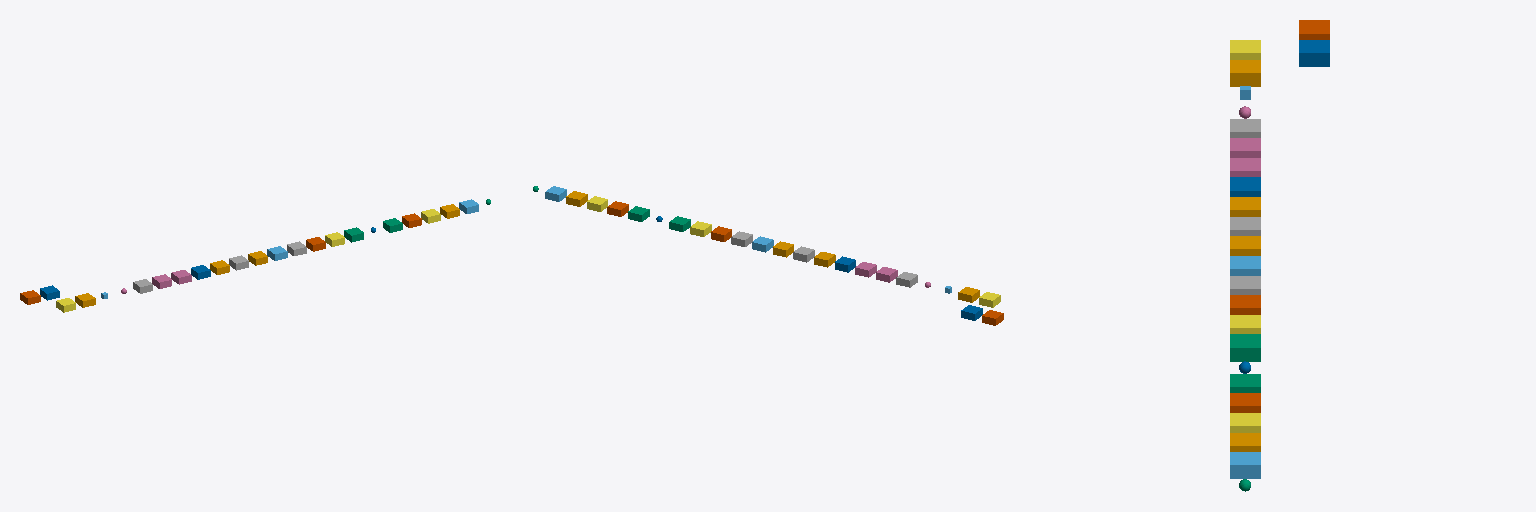
robot.urdf — lift_off_hinge_assembly:
<?xml version="1.0" ?>
<robot name="lift_off_hinge_assembly">
  <link name="base_wall">
    <visual>
      <geometry>
        <box size="0.04 0.04 0.02"/>
      </geometry>
    </visual>
  </link>
  <link name="base_wall_exterior_guide_surface">
    <visual>
      <geometry>
        <box size="0.04 0.04 0.02"/>
      </geometry>
    </visual>
  </link>
  <link name="bight_wall">
    <visual>
      <geometry>
        <box size="0.04 0.04 0.02"/>
      </geometry>
    </visual>
  </link>
  <link name="body_half_sub_assembly">
    <visual>
      <geometry>
        <box size="0.04 0.04 0.02"/>
      </geometry>
    </visual>
  </link>
  <link name="door_half_member">
    <visual>
      <geometry>
        <box size="0.04 0.04 0.02"/>
      </geometry>
    </visual>
  </link>
  <link name="first_sidewall">
    <visual>
      <geometry>
        <box size="0.04 0.04 0.02"/>
      </geometry>
    </visual>
  </link>
  <link name="hinge_axis">
    <visual>
      <geometry>
        <sphere radius="0.008"/>
      </geometry>
    </visual>
  </link>
  <link name="hinge_body_half_assembly">
    <visual>
      <geometry>
        <box size="0.04 0.04 0.02"/>
      </geometry>
    </visual>
  </link>
  <link name="leaf_flange">
    <visual>
      <geometry>
        <box size="0.04 0.04 0.02"/>
      </geometry>
    </visual>
  </link>
  <link name="leaf_flange_pintle_pin_hole">
    <visual>
      <geometry>
        <box size="0.04 0.04 0.02"/>
      </geometry>
    </visual>
  </link>
  <link name="leg_guide_edge_surface">
    <visual>
      <geometry>
        <box size="0.04 0.04 0.02"/>
      </geometry>
    </visual>
  </link>
  <link name="link_member_pintle_pin_holes">
    <visual>
      <geometry>
        <box size="0.04 0.04 0.02"/>
      </geometry>
    </visual>
  </link>
  <link name="lower_extension">
    <visual>
      <geometry>
        <box size="0.04 0.04 0.02"/>
      </geometry>
    </visual>
  </link>
  <link name="lower_leg">
    <visual>
      <geometry>
        <box size="0.04 0.04 0.02"/>
      </geometry>
    </visual>
  </link>
  <link name="main_member">
    <visual>
      <geometry>
        <box size="0.04 0.04 0.02"/>
      </geometry>
    </visual>
  </link>
  <link name="main_member_pintle_pin_hole">
    <visual>
      <geometry>
        <box size="0.04 0.04 0.02"/>
      </geometry>
    </visual>
  </link>
  <link name="mounting_wall">
    <visual>
      <geometry>
        <box size="0.04 0.04 0.02"/>
      </geometry>
    </visual>
  </link>
  <link name="pintle_pin">
    <visual>
      <geometry>
        <box size="0.014 0.014 0.014"/>
      </geometry>
    </visual>
  </link>
  <link name="pintle_pin_stop_means">
    <visual>
      <geometry>
        <sphere radius="0.008"/>
      </geometry>
    </visual>
  </link>
  <link name="second_sidewall">
    <visual>
      <geometry>
        <box size="0.04 0.04 0.02"/>
      </geometry>
    </visual>
  </link>
  <link name="stop_means">
    <visual>
      <geometry>
        <sphere radius="0.008"/>
      </geometry>
    </visual>
  </link>
  <link name="u_shaped_link_member">
    <visual>
      <geometry>
        <box size="0.04 0.04 0.02"/>
      </geometry>
    </visual>
  </link>
  <link name="upper_extension">
    <visual>
      <geometry>
        <box size="0.04 0.04 0.02"/>
      </geometry>
    </visual>
  </link>
  <link name="upper_leg">
    <visual>
      <geometry>
        <box size="0.04 0.04 0.02"/>
      </geometry>
    </visual>
  </link>
  <link name="vehicle_body">
    <visual>
      <geometry>
        <box size="0.04 0.04 0.02"/>
      </geometry>
    </visual>
  </link>
  <joint name="_attach_door_half_member_to_body_half_sub_assembly" type="fixed">
    <parent link="door_half_member"/>
    <child link="body_half_sub_assembly"/>
    <origin xyz="0.0000 -0.0900 0.0000" rpy="0 0 0"/>
  </joint>
  <joint name="_attach_u_shaped_link_member_to_base_wall" type="fixed">
    <parent link="u_shaped_link_member"/>
    <child link="base_wall"/>
    <origin xyz="0.6600 -0.0900 0.0000" rpy="0 0 0"/>
  </joint>
  <joint name="_attach_u_shaped_link_member_to_base_wall_exterior_guide_surface" type="fixed">
    <parent link="u_shaped_link_member"/>
    <child link="base_wall_exterior_guide_surface"/>
    <origin xyz="0.7200 -0.0900 0.0000" rpy="0 0 0"/>
  </joint>
  <joint name="_attach_u_shaped_link_member_to_bight_wall" type="fixed">
    <parent link="u_shaped_link_member"/>
    <child link="bight_wall"/>
    <origin xyz="1.0800 -0.0900 0.0000" rpy="0 0 0"/>
  </joint>
  <joint name="_attach_u_shaped_link_member_to_door_half_member" type="fixed">
    <parent link="u_shaped_link_member"/>
    <child link="door_half_member"/>
    <origin xyz="0.0600 0.0000 0.0000" rpy="0 0 0"/>
  </joint>
  <joint name="_attach_u_shaped_link_member_to_first_sidewall" type="fixed">
    <parent link="u_shaped_link_member"/>
    <child link="first_sidewall"/>
    <origin xyz="1.1400 -0.0900 0.0000" rpy="0 0 0"/>
  </joint>
  <joint name="_attach_u_shaped_link_member_to_hinge_axis" type="fixed">
    <parent link="u_shaped_link_member"/>
    <child link="hinge_axis"/>
    <origin xyz="0.2400 -0.0900 0.0000" rpy="0 0 0"/>
  </joint>
  <joint name="_attach_u_shaped_link_member_to_hinge_body_half_assembly" type="fixed">
    <parent link="u_shaped_link_member"/>
    <child link="hinge_body_half_assembly"/>
    <origin xyz="0.3000 -0.0900 0.0000" rpy="0 0 0"/>
  </joint>
  <joint name="_attach_u_shaped_link_member_to_leaf_flange" type="fixed">
    <parent link="u_shaped_link_member"/>
    <child link="leaf_flange"/>
    <origin xyz="1.2600 -0.0900 0.0000" rpy="0 0 0"/>
  </joint>
  <joint name="_attach_u_shaped_link_member_to_leaf_flange_pintle_pin_hole" type="fixed">
    <parent link="u_shaped_link_member"/>
    <child link="leaf_flange_pintle_pin_hole"/>
    <origin xyz="1.3200 -0.0900 0.0000" rpy="0 0 0"/>
  </joint>
  <joint name="_attach_u_shaped_link_member_to_leg_guide_edge_surface" type="fixed">
    <parent link="u_shaped_link_member"/>
    <child link="leg_guide_edge_surface"/>
    <origin xyz="0.9600 -0.0900 0.0000" rpy="0 0 0"/>
  </joint>
  <joint name="_attach_u_shaped_link_member_to_link_member_pintle_pin_holes" type="fixed">
    <parent link="u_shaped_link_member"/>
    <child link="link_member_pintle_pin_holes"/>
    <origin xyz="0.9000 -0.0900 0.0000" rpy="0 0 0"/>
  </joint>
  <joint name="_attach_u_shaped_link_member_to_lower_extension" type="fixed">
    <parent link="u_shaped_link_member"/>
    <child link="lower_extension"/>
    <origin xyz="0.4800 -0.0900 0.0000" rpy="0 0 0"/>
  </joint>
  <joint name="_attach_u_shaped_link_member_to_lower_leg" type="fixed">
    <parent link="u_shaped_link_member"/>
    <child link="lower_leg"/>
    <origin xyz="0.8400 -0.0900 0.0000" rpy="0 0 0"/>
  </joint>
  <joint name="_attach_u_shaped_link_member_to_main_member" type="fixed">
    <parent link="u_shaped_link_member"/>
    <child link="main_member"/>
    <origin xyz="0.3600 -0.0900 0.0000" rpy="0 0 0"/>
  </joint>
  <joint name="_attach_u_shaped_link_member_to_main_member_pintle_pin_hole" type="fixed">
    <parent link="u_shaped_link_member"/>
    <child link="main_member_pintle_pin_hole"/>
    <origin xyz="0.6000 -0.0900 0.0000" rpy="0 0 0"/>
  </joint>
  <joint name="_attach_u_shaped_link_member_to_mounting_wall" type="fixed">
    <parent link="u_shaped_link_member"/>
    <child link="mounting_wall"/>
    <origin xyz="0.5400 -0.0900 0.0000" rpy="0 0 0"/>
  </joint>
  <joint name="_attach_u_shaped_link_member_to_pintle_pin" type="fixed">
    <parent link="u_shaped_link_member"/>
    <child link="pintle_pin"/>
    <origin xyz="0.1800 -0.0900 0.0000" rpy="0 0 0"/>
  </joint>
  <joint name="_attach_u_shaped_link_member_to_pintle_pin_stop_means" type="fixed">
    <parent link="u_shaped_link_member"/>
    <child link="pintle_pin_stop_means"/>
    <origin xyz="1.3800 -0.0900 0.0000" rpy="0 0 0"/>
  </joint>
  <joint name="_attach_u_shaped_link_member_to_second_sidewall" type="fixed">
    <parent link="u_shaped_link_member"/>
    <child link="second_sidewall"/>
    <origin xyz="1.2000 -0.0900 0.0000" rpy="0 0 0"/>
  </joint>
  <joint name="_attach_u_shaped_link_member_to_stop_means" type="fixed">
    <parent link="u_shaped_link_member"/>
    <child link="stop_means"/>
    <origin xyz="1.0200 -0.0900 0.0000" rpy="0 0 0"/>
  </joint>
  <joint name="_attach_u_shaped_link_member_to_upper_extension" type="fixed">
    <parent link="u_shaped_link_member"/>
    <child link="upper_extension"/>
    <origin xyz="0.4200 -0.0900 0.0000" rpy="0 0 0"/>
  </joint>
  <joint name="_attach_u_shaped_link_member_to_upper_leg" type="fixed">
    <parent link="u_shaped_link_member"/>
    <child link="upper_leg"/>
    <origin xyz="0.7800 -0.0900 0.0000" rpy="0 0 0"/>
  </joint>
  <joint name="_attach_u_shaped_link_member_to_vehicle_body" type="fixed">
    <parent link="u_shaped_link_member"/>
    <child link="vehicle_body"/>
    <origin xyz="0.1200 -0.0900 0.0000" rpy="0 0 0"/>
  </joint>
</robot>

--- What the picture shows (computed from the rendered views, not written in the file) ---
Views: 3 orthographic renders of the robot side by side, from view 1: azimuth 30°, elevation 25°; view 2: azimuth 150°, elevation 25°; view 3: azimuth 270°, elevation 25°.
Robot: lift_off_hinge_assembly — 25 links, 24 joints (24 fixed); root link u_shaped_link_member; default pose: all joints at 0.
Visible links, largest first — view 1: none; view 2: none; view 3: leg_guide_edge_surface, door_half_member, leaf_flange_pintle_pin_hole, vehicle_body, base_wall, base_wall_exterior_guide_surface, body_half_sub_assembly, first_sidewall, lower_extension, lower_leg, main_member, mounting_wall (+9 smaller).
Link boxes in pixels (<box>): leg_guide_edge_surface: <box>1230,334,1260,361</box>; door_half_member: <box>1299,40,1329,66</box>; leaf_flange_pintle_pin_hole: <box>1230,452,1260,478</box>; vehicle_body: <box>1230,60,1260,86</box>; base_wall: <box>1230,236,1260,255</box>; base_wall_exterior_guide_surface: <box>1230,256,1260,275</box>; body_half_sub_assembly: <box>1230,40,1260,59</box>; first_sidewall: <box>1230,393,1260,412</box>; lower_extension: <box>1230,177,1260,196</box>; lower_leg: <box>1230,295,1260,314</box>; main_member: <box>1230,138,1260,157</box>; mounting_wall: <box>1230,197,1260,216</box>.
Size in the robot's own frame: 1.41 by 0.13 by 0.02 metres.
Geometry: primitives only (box / cylinder / sphere), no mesh files.
